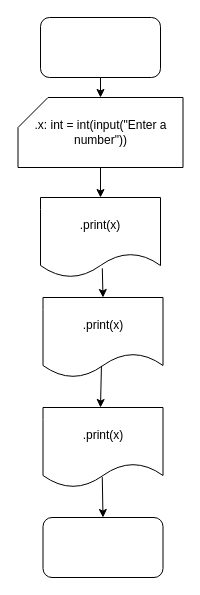
The diagram is 200 pixels wide and 595 high, and some of its shapes have lost their labels. The shapes that lost their labels are listed below. From the top down, each one's centre as x and y in pixels, then its label:
At (100,47): ".start".
At (102,547): ".end".
